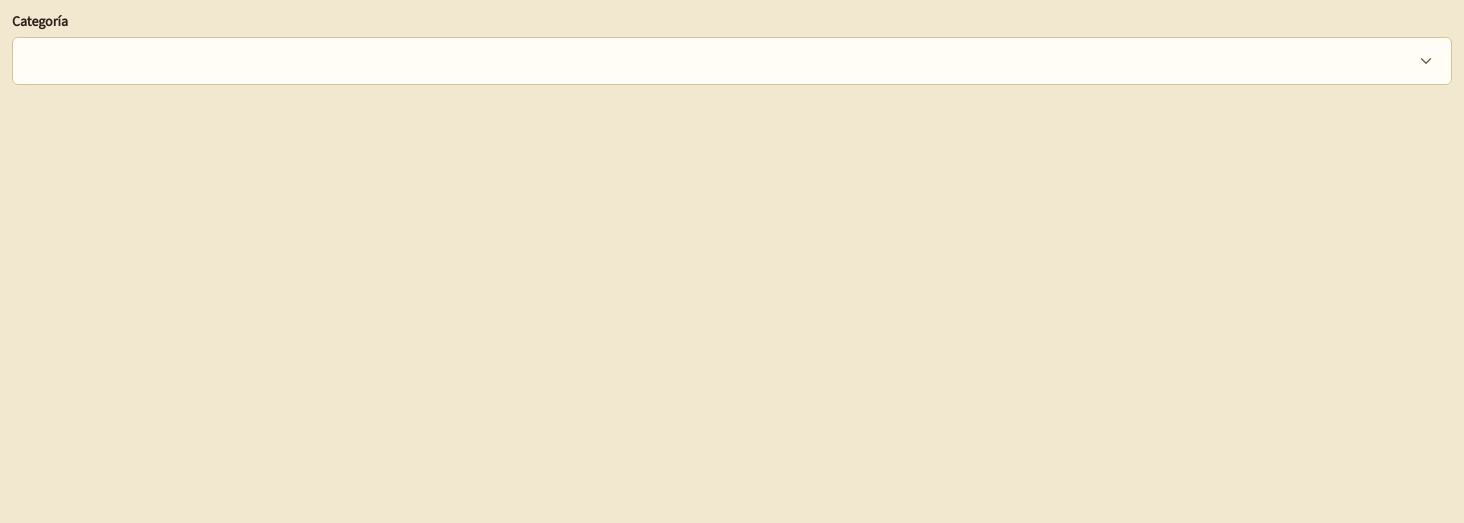
SelectorConBuscador › pie: «Nueva categoría», «Nueva categoría “posada”» y el recorte a 16 + «…»; alPedir con la búsqueda y el valor sin cambiar
Later steps or results of the test are not shown.
Click the dropdown named "Categoría" at (1426, 61), box x1=12 y1=37 x2=1452 y2=85
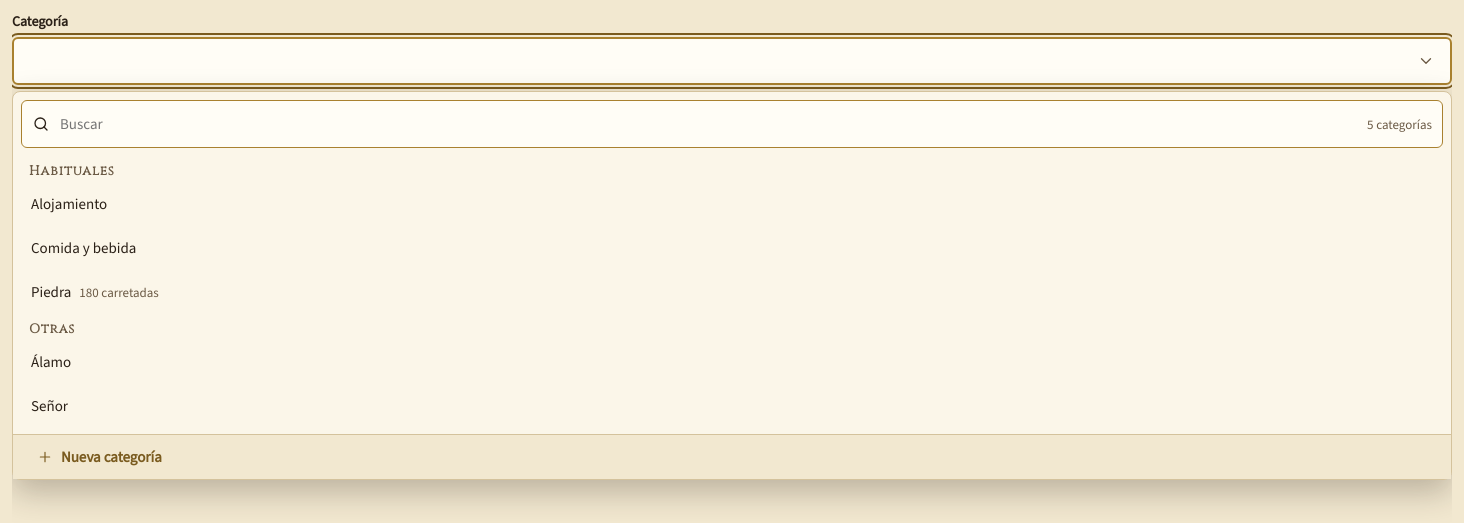
Now the button "Nueva categoría" is shown, box x1=25 y1=435 x2=174 y2=479
Type "posada" into the search field labelled "Buscar" at (709, 124), box x1=58 y1=113 x2=1359 y2=135
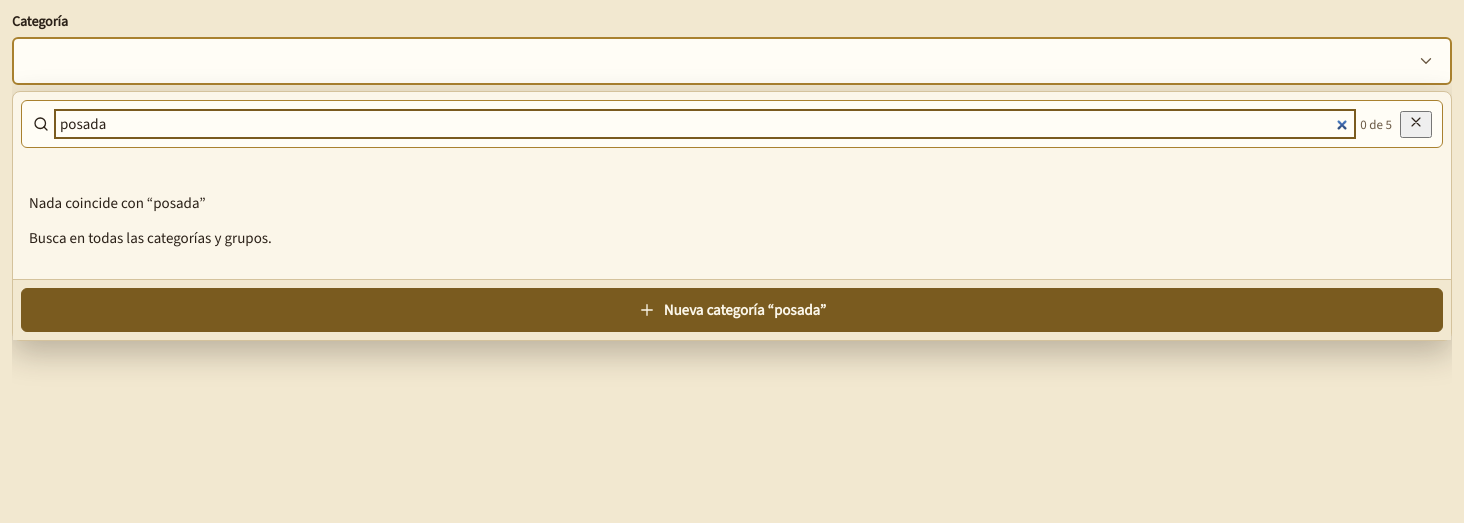
Now the button "Nueva categoría “posada”" is shown, box x1=21 y1=288 x2=1443 y2=332
